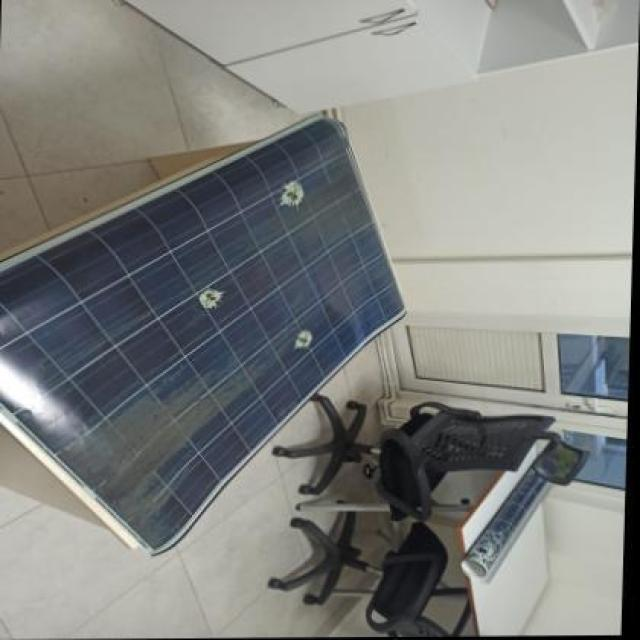soiled: (8, 95, 406, 554)
